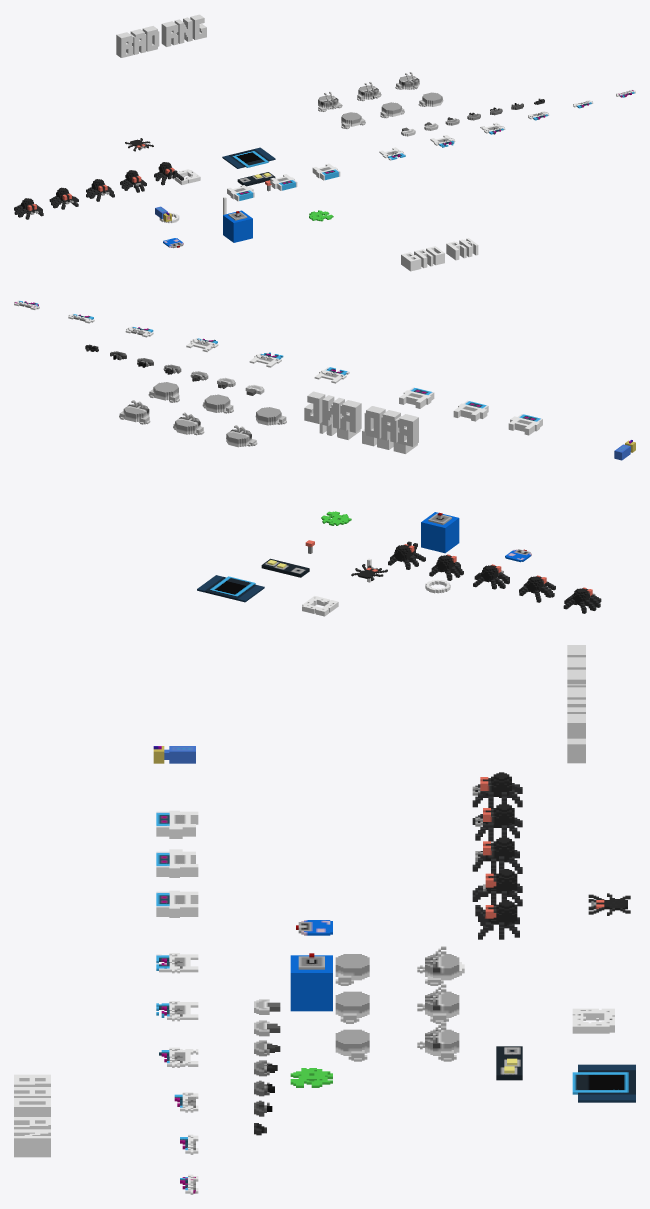
File: ld38_models.dae
3 views of the same model, one above another, from view 1: azimuth 30°, elevation 25°; view 2: azimuth 150°, elevation 25°; view 3: azimuth 270°, elevation 25° (orthographic). The views are drawn at different scales.
Parts seen in each view (by area): view 1: Box, case, R, R_1, spider_walk_1, spider_rest, spider_attack_2, spider_walk_3, N; view 2: Box, case, R, R_1, spider_rest, N, spider_walk_3, spider_attack_1, spider_walk_1, D, spider_attack_2, U (+12 smaller); view 3: Box, case, spider_attack_1, spider_rest, spider_walk_1, spider_attack_2, spider_walk_3, player_rest, player_step_left, player_right_step, head, explosion (+9 smaller).
Boxes of the visible parts, left/top/right/bottom form: Box: left=223, top=210, right=252, bottom=242; case: left=222, top=147, right=275, bottom=168; R: left=161, top=21, right=178, bottom=46; R_1: left=116, top=32, right=133, bottom=57; spider_walk_1: left=49, top=187, right=78, bottom=209; spider_rest: left=14, top=198, right=43, bottom=219; spider_attack_2: left=120, top=170, right=146, bottom=192; spider_walk_3: left=86, top=179, right=114, bottom=201; N: left=174, top=17, right=192, bottom=43; Box: left=421, top=512, right=459, bottom=553; case: left=197, top=575, right=264, bottom=602; R: left=340, top=400, right=361, bottom=432; R_1: left=398, top=414, right=418, bottom=446; spider_rest: left=563, top=587, right=601, bottom=613; N: left=322, top=395, right=344, bottom=428; spider_walk_3: left=473, top=564, right=509, bottom=589; spider_attack_1: left=388, top=541, right=425, bottom=569; spider_walk_1: left=519, top=575, right=555, bottom=602; D: left=364, top=406, right=385, bottom=438; spider_attack_2: left=429, top=554, right=463, bottom=580; U: left=304, top=391, right=325, bottom=423; Box: left=290, top=953, right=332, bottom=1011; case: left=572, top=1064, right=635, bottom=1102; spider_attack_1: left=475, top=900, right=519, bottom=939; spider_rest: left=472, top=772, right=522, bottom=808; spider_walk_1: left=472, top=803, right=522, bottom=841; spider_attack_2: left=472, top=869, right=522, bottom=906; spider_walk_3: left=472, top=836, right=522, bottom=874; player_rest: left=156, top=890, right=198, bottom=917; player_step_left: left=156, top=810, right=198, bottom=838; player_right_step: left=156, top=849, right=198, bottom=877; head: left=417, top=946, right=459, bottom=985; explosion: left=572, top=1008, right=614, bottom=1033.
Bounding box in the file's own units: 453 × 137 × 236.
1 material, 1 textured.
